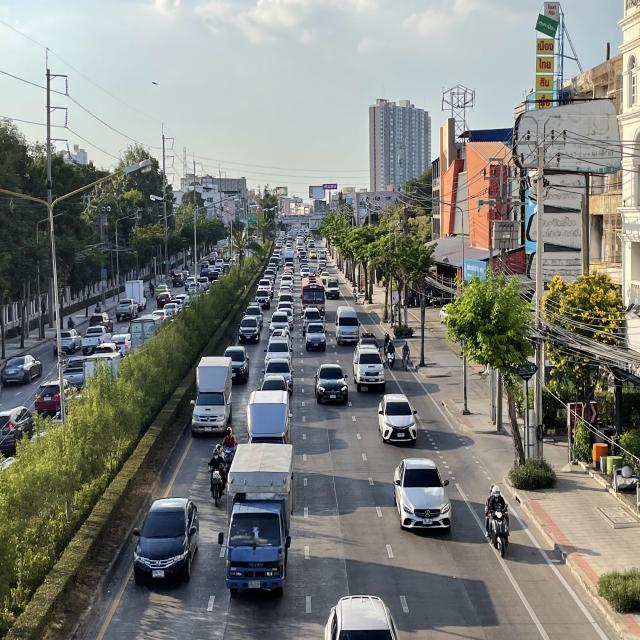bike: (481, 480, 512, 560), (208, 445, 224, 507), (222, 426, 236, 478), (401, 340, 410, 373), (387, 341, 395, 370)
bus: (300, 276, 325, 318)
car: (132, 494, 200, 588), (392, 456, 453, 534), (378, 393, 417, 444), (352, 344, 387, 392), (314, 362, 349, 408), (218, 345, 251, 384), (261, 357, 294, 393), (264, 336, 294, 364), (238, 316, 260, 346), (267, 312, 292, 336)
truck: (220, 440, 294, 600), (190, 353, 232, 438), (246, 390, 292, 450), (305, 317, 326, 352)
